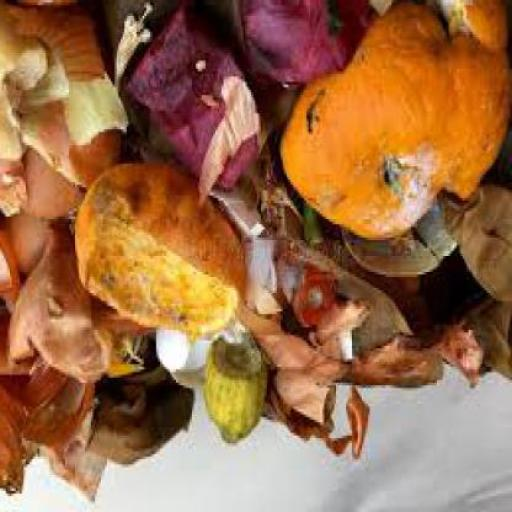biodegradable: (283, 2, 451, 242), (239, 301, 486, 462), (108, 3, 300, 172), (77, 164, 247, 343), (134, 19, 287, 203), (2, 3, 130, 219), (284, 243, 447, 396), (6, 222, 115, 390), (435, 2, 511, 206), (91, 335, 196, 467), (227, 3, 380, 87), (342, 200, 459, 282), (438, 192, 511, 308), (206, 340, 270, 449), (22, 367, 96, 454), (2, 219, 71, 311), (46, 443, 110, 507), (470, 302, 511, 386), (113, 2, 152, 90), (2, 383, 30, 503), (158, 329, 210, 391), (216, 190, 270, 243), (106, 316, 151, 378), (293, 274, 340, 330), (248, 246, 280, 298), (249, 282, 283, 324), (219, 327, 251, 351)
